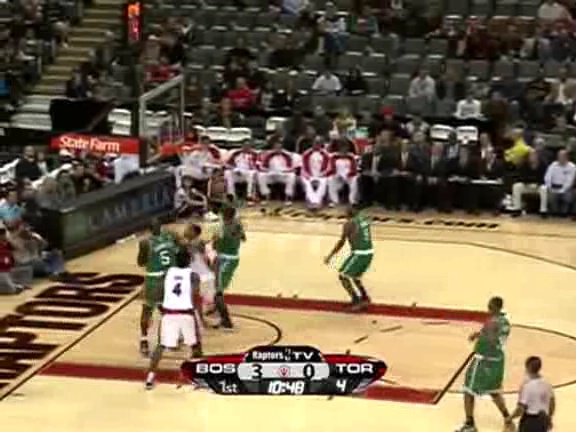person: (345, 207, 379, 288), (344, 207, 378, 288), (346, 207, 380, 288), (345, 206, 379, 287), (345, 208, 379, 289)
target_negative: (120, 4, 562, 242), (29, 238, 264, 412), (274, 49, 436, 174), (110, 329, 449, 363), (398, 311, 568, 326), (485, 264, 492, 402)
